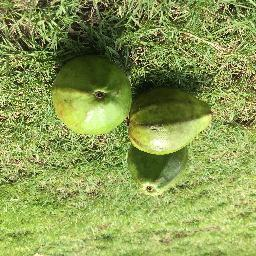Good_guava: (53, 50, 133, 140), (117, 87, 217, 154), (128, 141, 192, 201)
